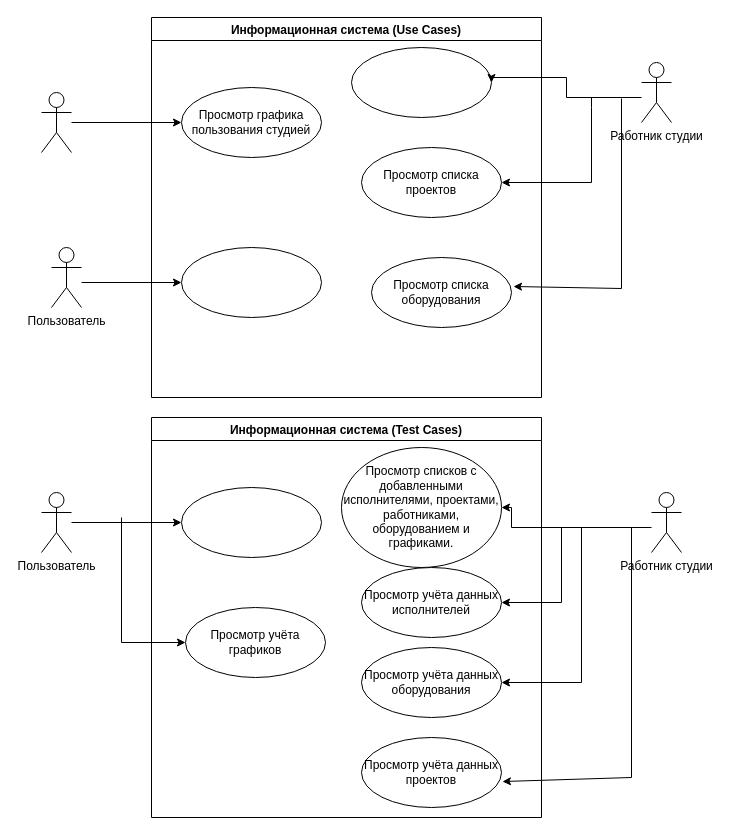
The diagram is 730 pixels wide and 835 high, and some of its shapes have lost their labels. Here are the shapes that lost their labels. From the top down, the centre of each, then its label:
At pixel 421 82: "Просмотр списка исполнителей".
At pixel 56 122: "Исполнитель".
At pixel 251 282: "Просмотр списка работников студии".
At pixel 251 522: "Просмотр учёта данных работников студии".
